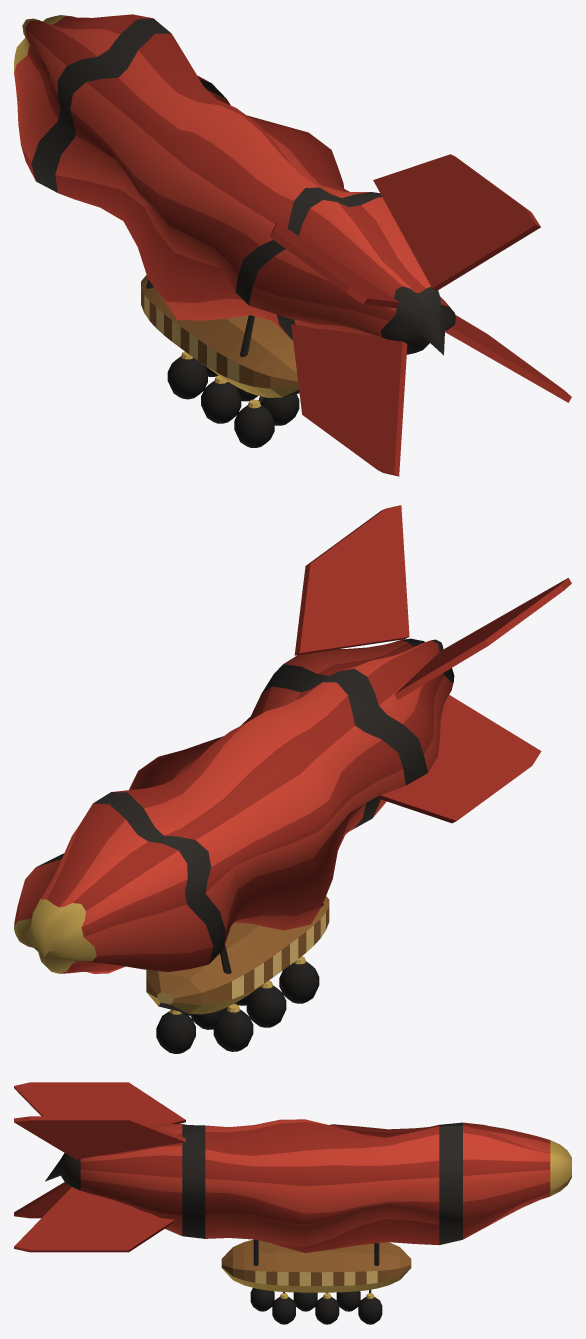
File: bombardeiro.glb
3 views of the same model, one above another, from view 1: azimuth 30°, elevation 25°; view 2: azimuth 150°, elevation 25°; view 3: azimuth 270°, elevation 25° (orthographic). The views are drawn at different scales.
Parts seen in each view (by area): view 1: bombardeiro; view 2: bombardeiro; view 3: bombardeiro.
Boxes of the visible parts, x1,y1,x2,y2 form: bombardeiro: [14, 14, 571, 476]; bombardeiro: [14, 505, 571, 1053]; bombardeiro: [14, 1082, 571, 1324].
Size of the model in its own units: 3.58 by 5.43 by 12.31.
